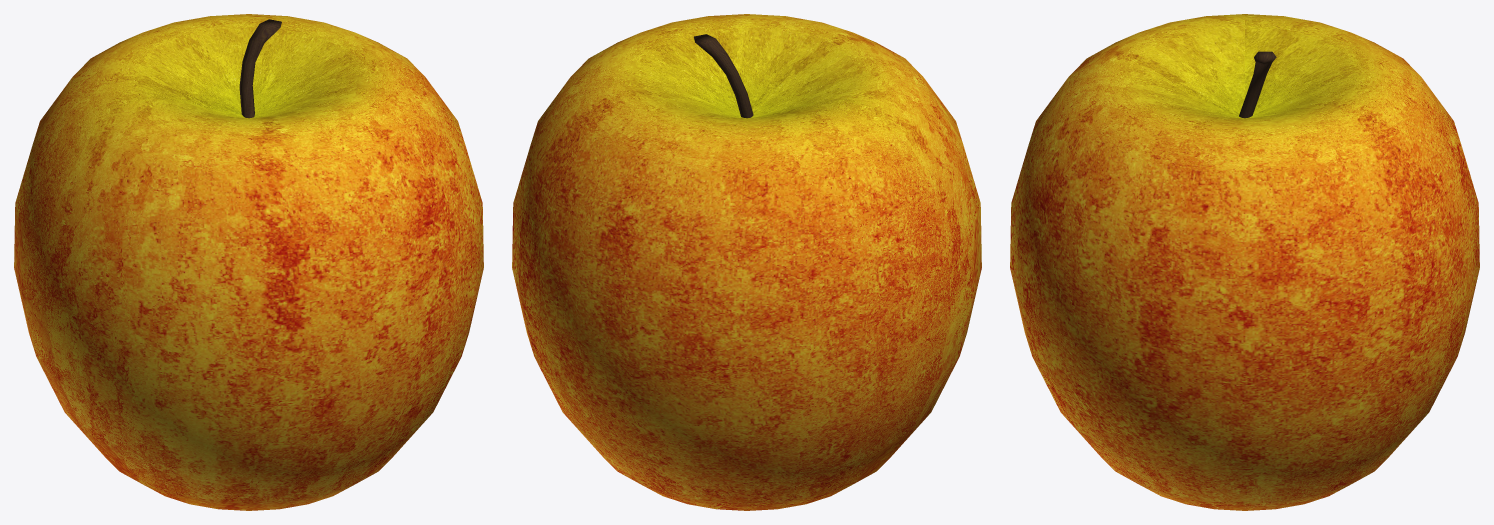
The model's file is Apple.fbx.
3 renders of one model, left to right at view 1: azimuth 30°, elevation 25°; view 2: azimuth 150°, elevation 25°; view 3: azimuth 270°, elevation 25°, orthographic.
Parts seen in each view (by area): view 1: Apple, AppleTop; view 2: Apple, AppleTop; view 3: Apple, AppleTop.
Boxes of the visible parts, <box> form: Apple: <box>14,14,483,510</box>; AppleTop: <box>239,19,281,118</box>; Apple: <box>512,14,981,510</box>; AppleTop: <box>694,34,753,118</box>; Apple: <box>1010,14,1479,510</box>; AppleTop: <box>1239,51,1276,118</box>.
Size of the model in its own units: 32.87 by 33.22 by 32.87.
Materials: 1 (1 with a texture image).
